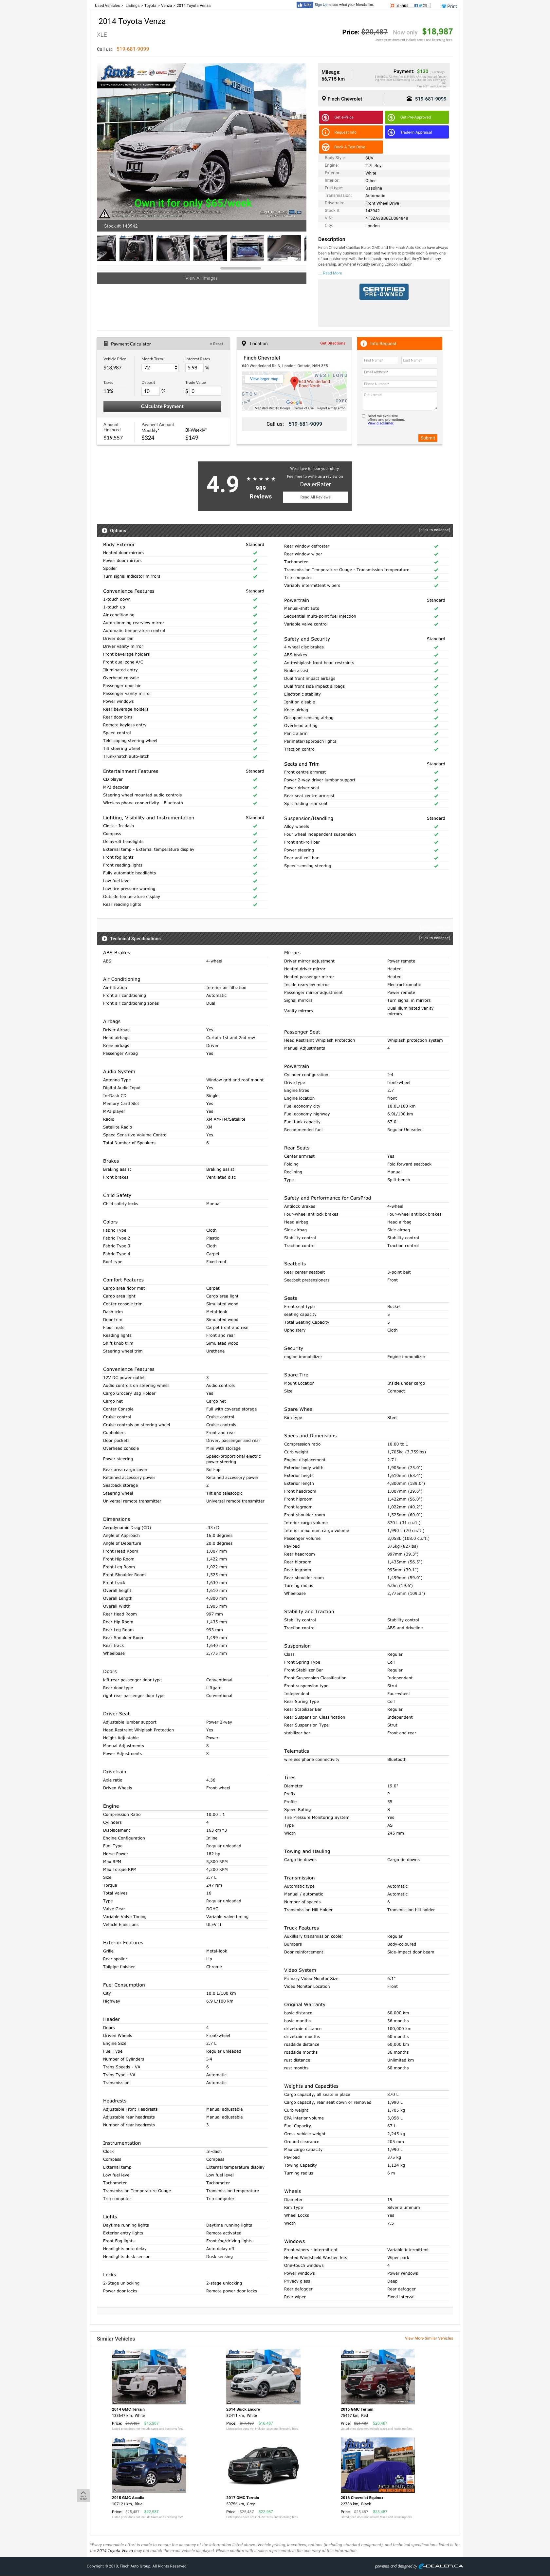car: (297, 138, 304, 146)
